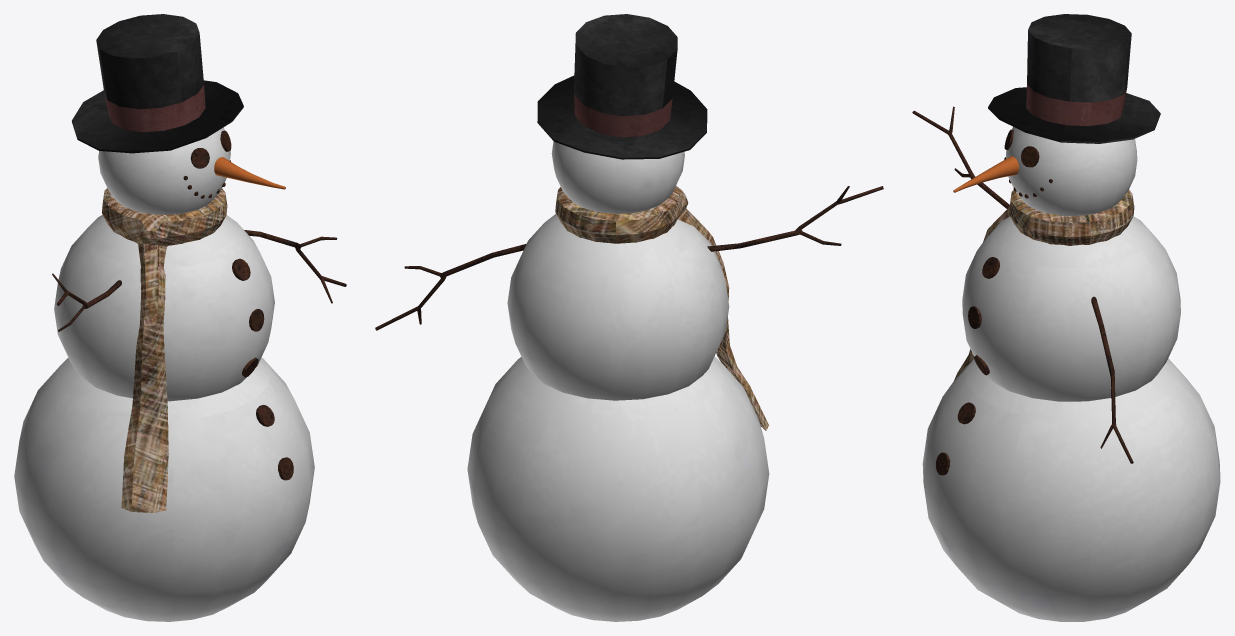
The model's file is SnowMan.fbx.
The picture shows the model from 3 angles, left to right: view 1: azimuth 30°, elevation 25°; view 2: azimuth 150°, elevation 25°; view 3: azimuth 270°, elevation 25°; orthographic projection.
Visible parts, largest first — view 1: SnowMan, SnowManHead; view 2: SnowMan, SnowManHead; view 3: SnowMan, SnowManHead.
Boxes of the visible parts, box(x1,y1,x2,y2) form: SnowMan: box(14, 188, 346, 621); SnowManHead: box(72, 14, 285, 214); SnowMan: box(375, 185, 883, 621); SnowManHead: box(537, 14, 707, 213); SnowMan: box(912, 106, 1220, 621); SnowManHead: box(953, 14, 1160, 215).
Bounding box in the file's own units: 337 × 467 × 226.
